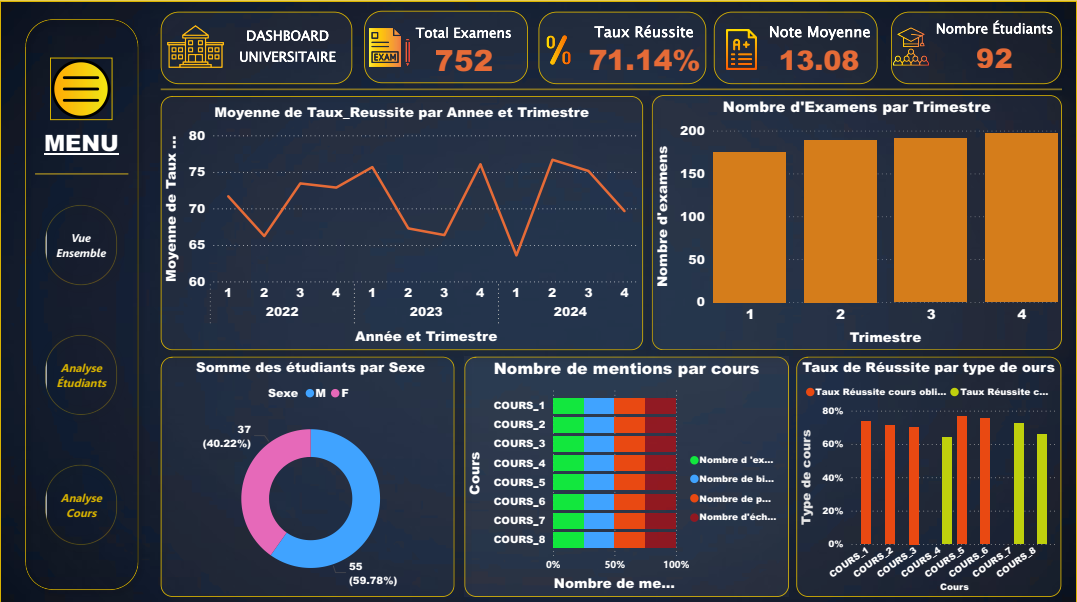

The page's visual inventory and layout, read from the dashboard file:
{"tool":"powerbi","page":{"name":"Vue Ensemble","canvas":[1280,720],"ordinal":0},"visuals":[{"type":"image","box":[0,0,1280,720],"z":0},{"type":"shape","box":[23.5,14.1,150.6,694.1],"z":1000},{"type":"shape","box":[191.8,14.1,227.1,85.9],"z":2000},{"type":"shape","box":[432.9,12.9,194.1,85.9],"z":3000},{"type":"shape","box":[848.2,14.1,194.1,85.9],"z":4000},{"type":"shape","box":[640,14.1,198.8,85.9],"z":5000},{"type":"shape","box":[1057.6,14.1,202.4,85.9],"z":6000},{"type":"shape","box":[191.8,100,1068.2,12.9],"z":7000},{"type":"shape","box":[191.8,114.1,571.8,301.2],"z":8000},{"type":"shape","box":[191.8,423.5,348.2,284.7],"z":9000},{"type":"shape","box":[774.1,112.9,485.9,302.4],"z":10000},{"type":"shape","box":[551.8,423.5,384.7,284.7],"z":11000},{"type":"shape","box":[945.9,423.5,314.1,284.7],"z":12000},{"type":"textbox","box":[48.2,145.9,101.2,61.2],"z":13000},{"type":"image","box":[61.2,69.4,74.1,74.1],"z":14000},{"type":"shape","box":[43.5,196.5,110.6,20],"z":15000},{"type":"image","box":[200,29.4,67.1,54.1],"z":16000},{"type":"textbox","box":[267.1,25.9,151.8,61.2],"z":17000},{"type":"textbox","box":[475.3,22.4,151.8,61.2],"z":18000},{"type":"image","box":[440,24.7,47.1,65.9],"z":19000},{"type":"card","fields":{"Values":["_Mesures.Nombre Total Examens"]},"box":[490.6,42.4,121.2,57.6],"z":20000},{"type":"textbox","title":"Taux Réussite","box":[682.4,25.9,165.9,28.2],"z":21000},{"type":"card","fields":{"Values":["_Mesures.Taux Réussite %"]},"box":[676.5,35.3,177.6,71.8],"z":22000},{"type":"image","box":[640,40,47.1,38.8],"z":23000},{"type":"textbox","title":"Note Moyenne","box":[904.7,25.9,137.6,28.2],"z":24000},{"type":"card","fields":{"Values":["_Mesures.Note Moyenne Globale"]},"box":[909.4,45.9,127.1,51.8],"z":25000},{"type":"image","box":[856.5,30.6,48.2,56.5],"z":26000},{"type":"textbox","title":"Nombre Étudiants","box":[1081.2,22.4,198.8,27.1],"z":27000},{"type":"card","fields":{"Values":["_Mesures.Nombre Étudiants"]},"box":[1097.6,43.5,165.9,50.6],"z":28000},{"type":"image","box":[1057.6,24.7,47.1,62.4],"z":29000},{"type":"lineChart","title":"Moyenne de Taux_Reussite par Annee et Trimestre","fields":{"Category":["v_evolution_temporelle.Annee","v_evolution_temporelle.Trimestre"],"Y":["Avg(v_evolution_temporelle.Taux_Reussite_Pct)"]},"box":[191.8,121.2,571.8,294.1],"z":30000},{"type":"clusteredColumnChart","title":"Nombre d''Examens par Trimestre","fields":{"Category":["v_evolution_temporelle.Trimestre"],"Y":["Sum(v_evolution_temporelle.Nombre_Examens)"]},"box":[774.1,114.1,485.9,301.2],"z":31000},{"type":"hundredPercentStackedBarChart","title":"Nombre de mentions par cours","fields":{"Category":["v_statistiques_cours.Cours"],"Y":["CountNonNull(v_statistiques_cours.Nb_Excellent)","CountNonNull(v_statistiques_cours.Nb_Bien)","CountNonNull(v_statistiques_cours.Nb_Passable)","CountNonNull(v_statistiques_cours.Nb_Echec)"]},"box":[551.8,423.5,384.7,284.7],"z":32000},{"type":"donutChart","title":"Somme des étudiants par Sexe","fields":{"Category":["v_reussite_par_genre.Sexe"],"Y":["Sum(v_reussite_par_genre.Nombre_Etudiants)"]},"box":[200,423.5,340,284.7],"z":33000},{"type":"clusteredColumnChart","title":"Taux de Réussite par type de ours","fields":{"Category":["v_statistiques_cours.Cours"],"Y":["_Mesures.Taux Réussite Obligatoires %","_Mesures.Taux Réussite Optionnels %"]},"box":[945.9,423.5,314.1,284.7],"z":34000},{"type":"pageNavigator","box":[42.2,229.6,112.1,431.5],"z":35000}]}

Visuals, with their boxes in screenshot pixels (x1, y1, x2, y2), scaled from the page's 1280x720 canvas onto the 1077x602 screenshot:
image: <box>0,0,1076,601</box>
shape: <box>20,12,146,592</box>
shape: <box>161,12,352,84</box>
shape: <box>364,11,528,83</box>
shape: <box>714,12,877,84</box>
shape: <box>538,12,706,84</box>
shape: <box>890,12,1060,84</box>
shape: <box>161,84,1060,94</box>
shape: <box>161,95,642,347</box>
shape: <box>161,354,454,592</box>
shape: <box>651,94,1060,347</box>
shape: <box>464,354,788,592</box>
shape: <box>796,354,1060,592</box>
textbox: <box>41,122,126,173</box>
image: <box>51,58,114,120</box>
shape: <box>37,164,130,181</box>
image: <box>168,25,225,70</box>
textbox: <box>225,22,352,73</box>
textbox: <box>400,19,528,70</box>
image: <box>370,21,410,76</box>
card - _Mesures.Nombre Total Examens: <box>413,35,515,84</box>
"Taux Réussite" textbox: <box>574,22,714,45</box>
card - _Mesures.Taux Réussite %: <box>569,30,719,90</box>
image: <box>538,33,578,66</box>
"Note Moyenne" textbox: <box>761,22,877,45</box>
card - _Mesures.Note Moyenne Globale: <box>765,38,872,82</box>
image: <box>721,26,761,73</box>
"Nombre Étudiants" textbox: <box>910,19,1076,41</box>
card - _Mesures.Nombre Étudiants: <box>924,36,1063,79</box>
image: <box>890,21,930,73</box>
"Moyenne de Taux_Reussite par Annee et Trimestre" lineChart: <box>161,101,642,347</box>
"Nombre d''Examens par Trimestre" clusteredColumnChart: <box>651,95,1060,347</box>
"Nombre de mentions par cours" hundredPercentStackedBarChart: <box>464,354,788,592</box>
"Somme des étudiants par Sexe" donutChart: <box>168,354,454,592</box>
"Taux de Réussite par type de ours" clusteredColumnChart: <box>796,354,1060,592</box>
pageNavigator: <box>36,192,130,553</box>
